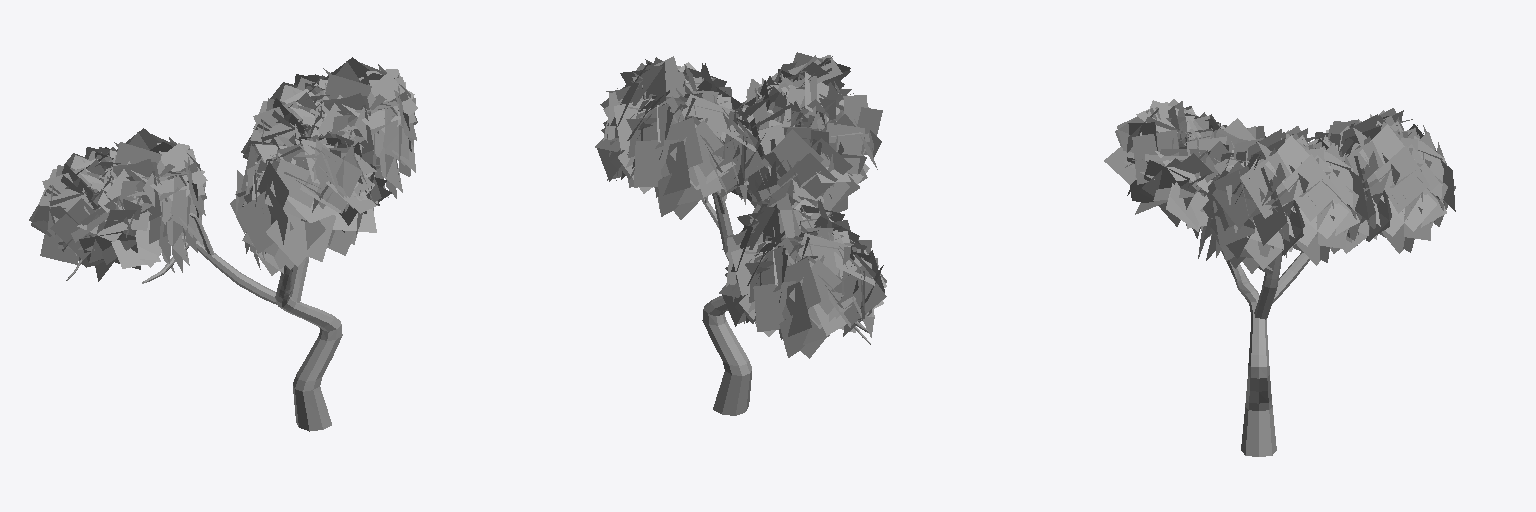
Rendered from MapleTree_2.obj.
3 renders of one model, left to right at view 1: azimuth 30°, elevation 25°; view 2: azimuth 150°, elevation 25°; view 3: azimuth 270°, elevation 25°, orthographic.
Visible parts, largest first — view 1: MapleTree_2_Cube.009; view 2: MapleTree_2_Cube.009; view 3: MapleTree_2_Cube.009.
Boxes of the visible parts, x1=… form: MapleTree_2_Cube.009: x1=29, y1=57, x2=417, y2=431; MapleTree_2_Cube.009: x1=595, y1=52, x2=886, y2=415; MapleTree_2_Cube.009: x1=1104, y1=99, x2=1455, y2=456.
Bounding box in the file's own units: 6.7 × 6.71 × 6.24.